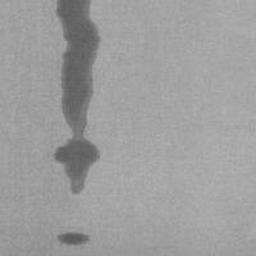Water spot: (54, 0, 104, 197), (55, 230, 92, 248)
